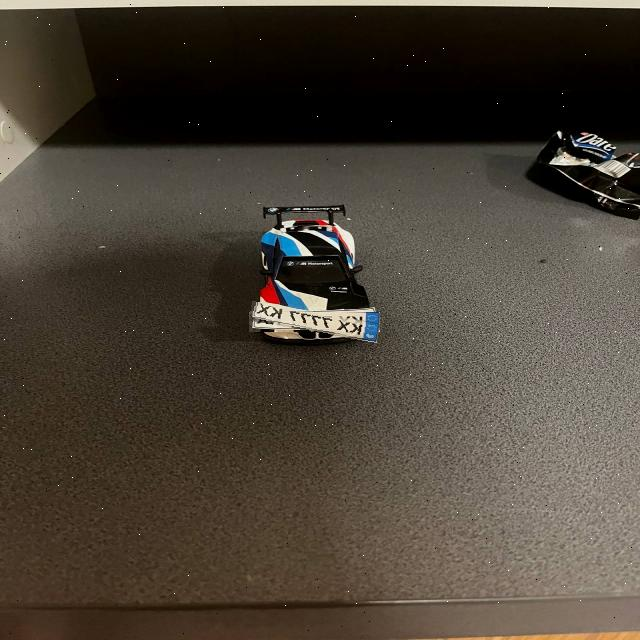KX 7777 KX: (250, 306, 380, 338)
